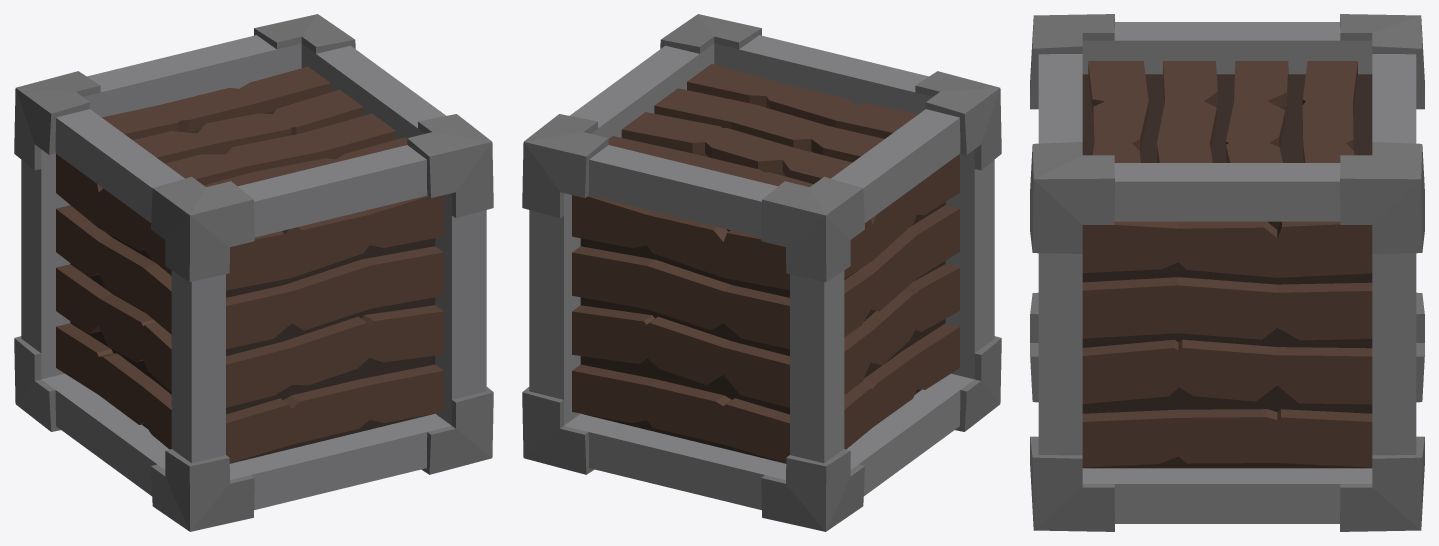
Rendered from Block.fbx.
3 renders of one model, left to right at view 1: azimuth 30°, elevation 25°; view 2: azimuth 150°, elevation 25°; view 3: azimuth 270°, elevation 25°, orthographic. The views are drawn at different scales.
Parts seen in each view (by area): view 1: Cube.004; view 2: Cube.004; view 3: Cube.004.
Part boxes in pixels (x1,y1,x2,y2): Cube.004: (14, 14, 493, 531); Cube.004: (522, 14, 1001, 531); Cube.004: (1030, 14, 1424, 531).
Size of the model in its own units: 209 by 209 by 209.
